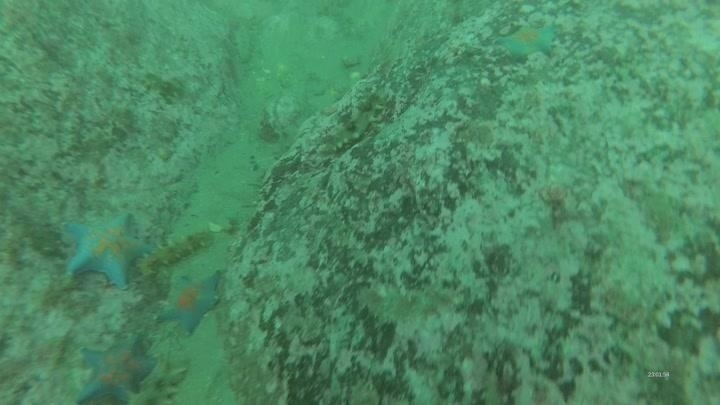holothurian: (317, 87, 391, 158), (141, 228, 215, 271), (131, 356, 190, 404), (139, 70, 187, 103)
starfish: (59, 211, 155, 291), (74, 334, 158, 404), (156, 269, 225, 335), (495, 21, 559, 61)
